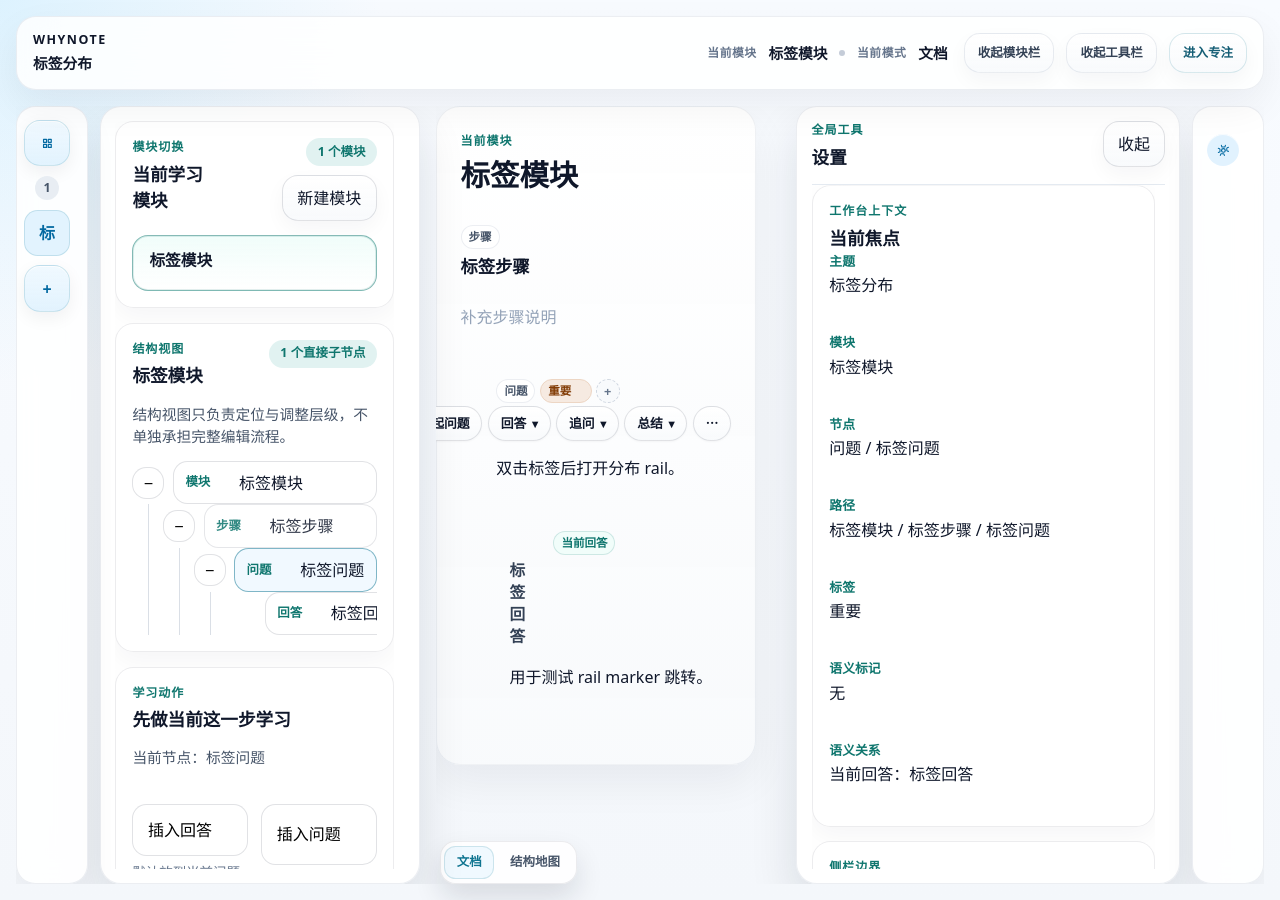
Test case: adds tags from the inline editor entry and opens a single-tag square marker rail
Click the element with test id "editor-node-step-tag-rail": (596, 471) [460,217,731,725]
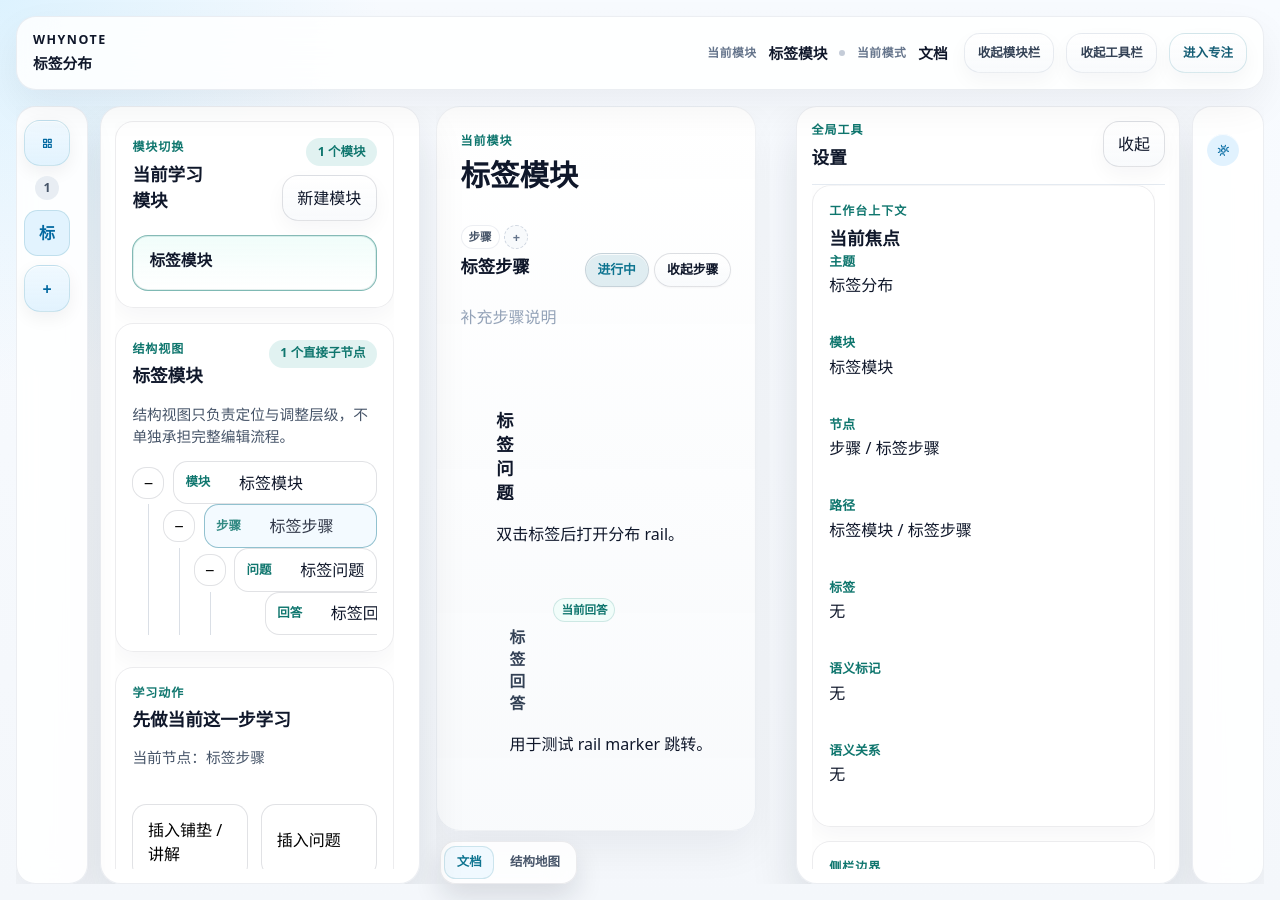
Click the button with test id "editor-tag-entry-step-tag-rail": (516, 237) [504,225,528,249]
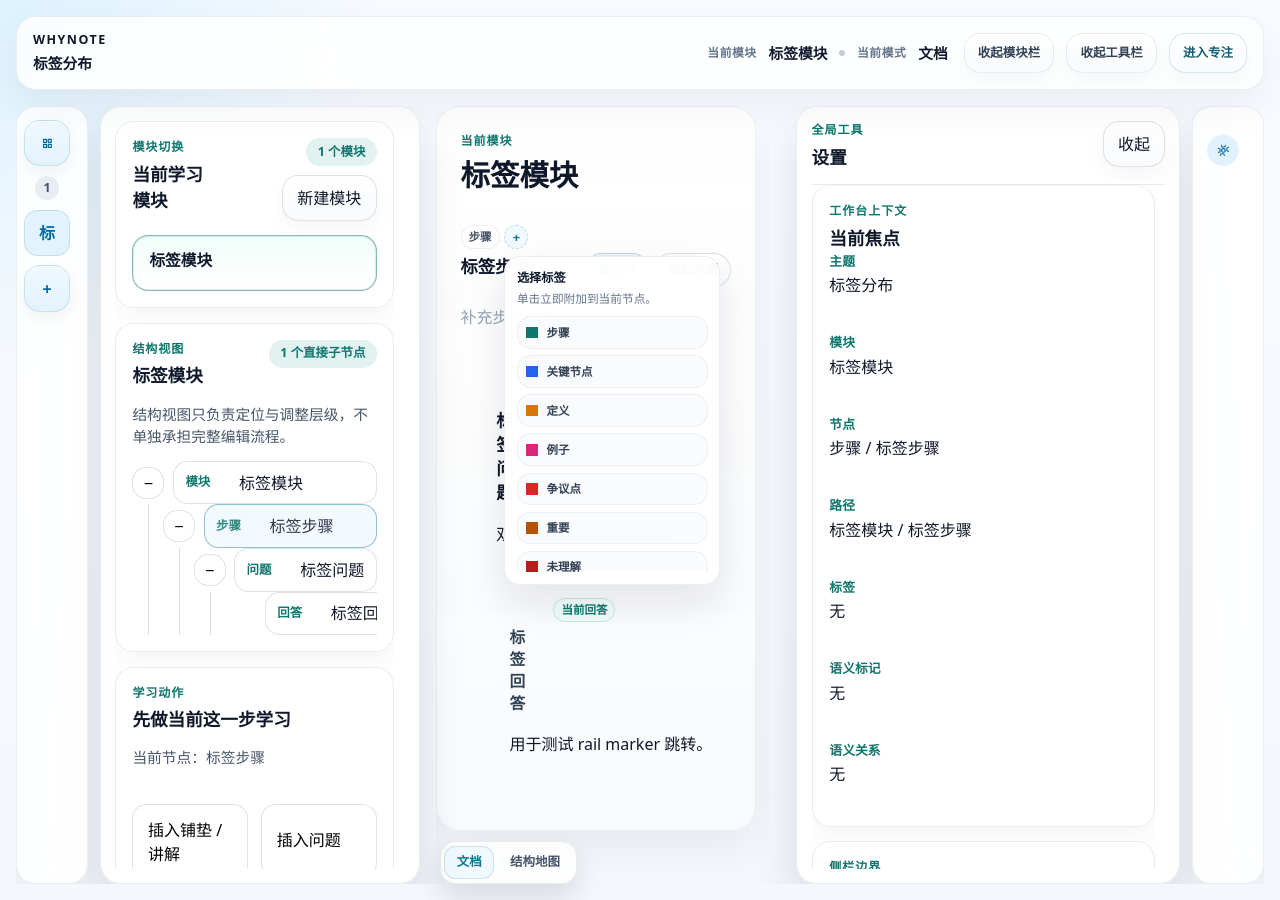
Click the button "重要": (612, 528) [517,512,708,544]
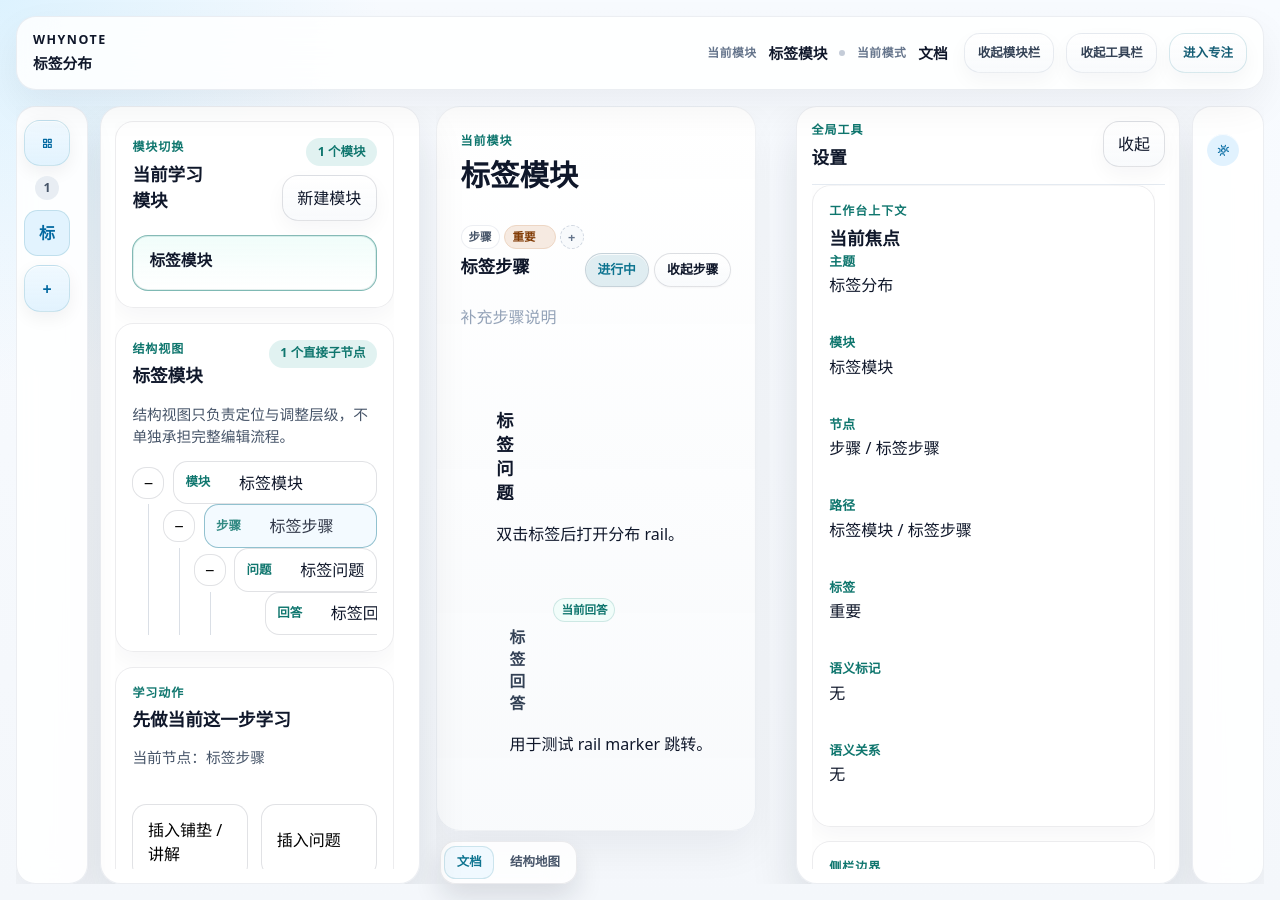
Double-click the button with test id "editor-tag-chip-step-tag-rail-tag-important": (524, 237) [512,226,535,248]
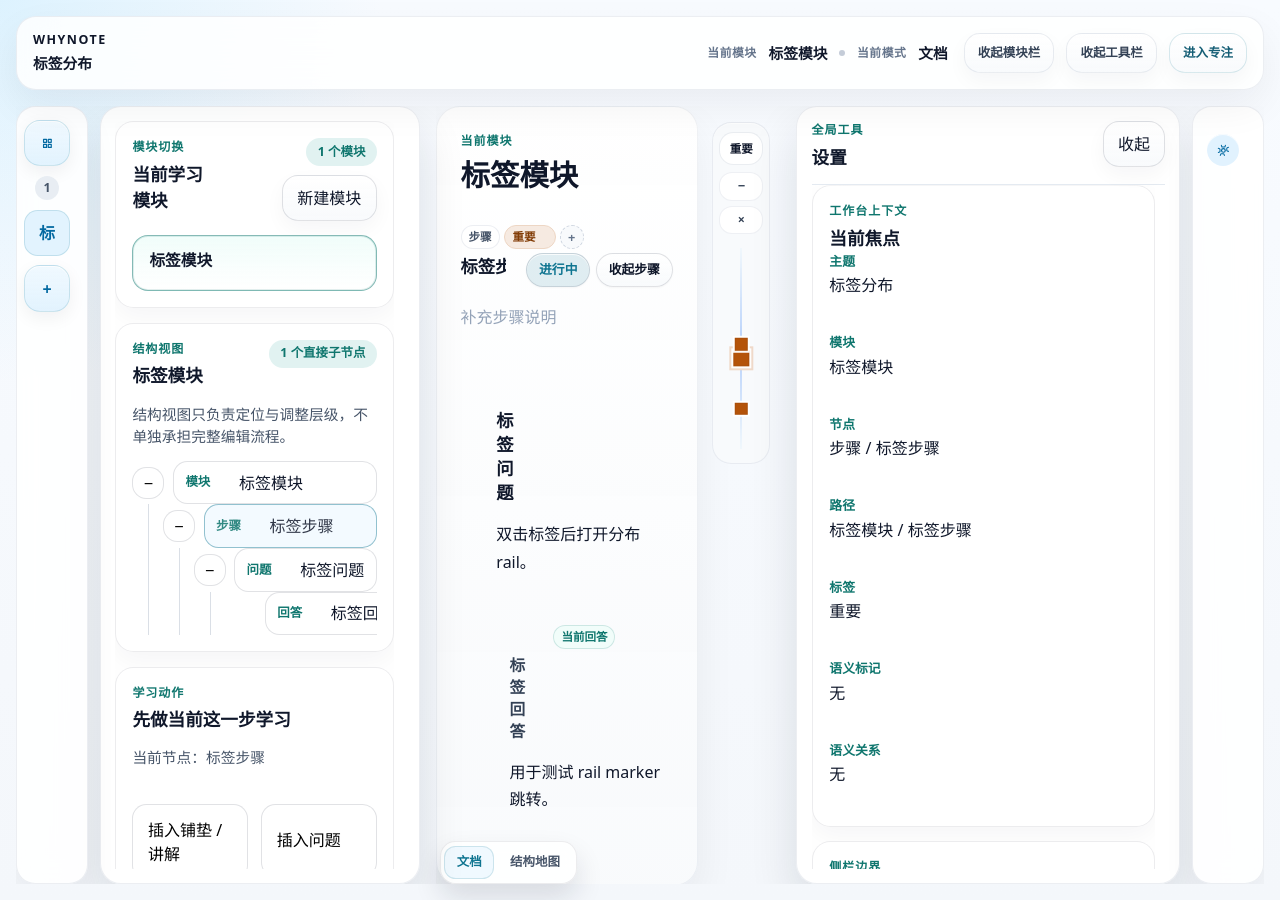
Now the element with test id "editor-tag-rail-track" is shown, box [719,245,763,453]
Now the element with test id "editor-tag-marker-step-tag-rail" is shown, box [712,122,770,464]
